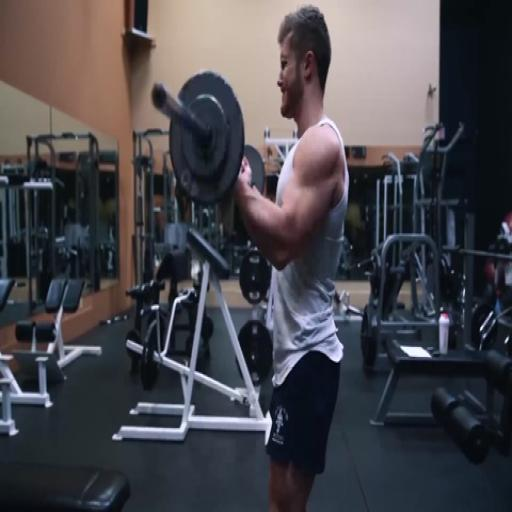exercise: (229, 3, 352, 510)
